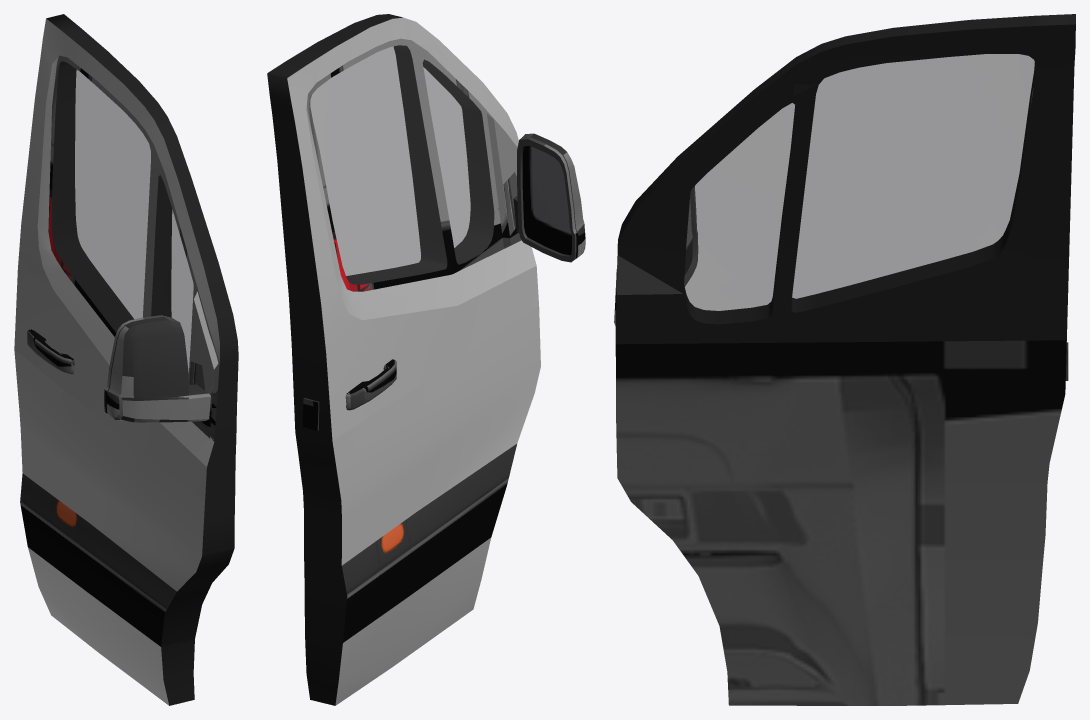
File: vanDoorR.fbx
3 renders of one model, left to right at view 1: azimuth 30°, elevation 25°; view 2: azimuth 150°, elevation 25°; view 3: azimuth 270°, elevation 25°, orthographic. The views are drawn at different scales.
Visible parts, largest first — view 1: Door_FR; view 2: Door_FR; view 3: Door_FR.
Part boxes in pixels (x1=…): Door_FR: x1=14, y1=14, x2=238, y2=705; Door_FR: x1=267, y1=14, x2=585, y2=705; Door_FR: x1=614, y1=14, x2=1075, y2=705.
Bounding box in the file's own units: 23.36 × 109 × 66.32.
